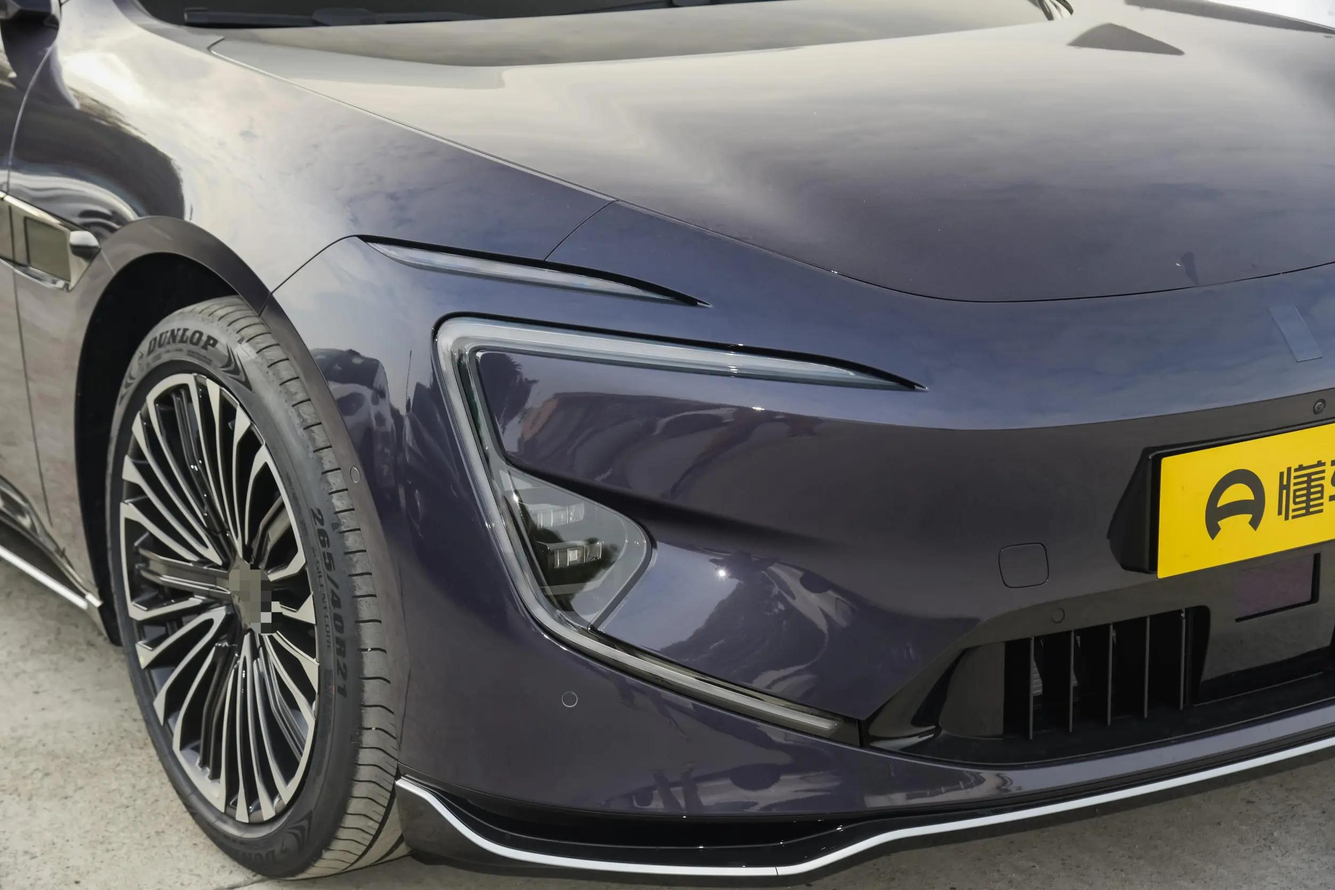AVATR: (1270, 306, 1323, 362)
